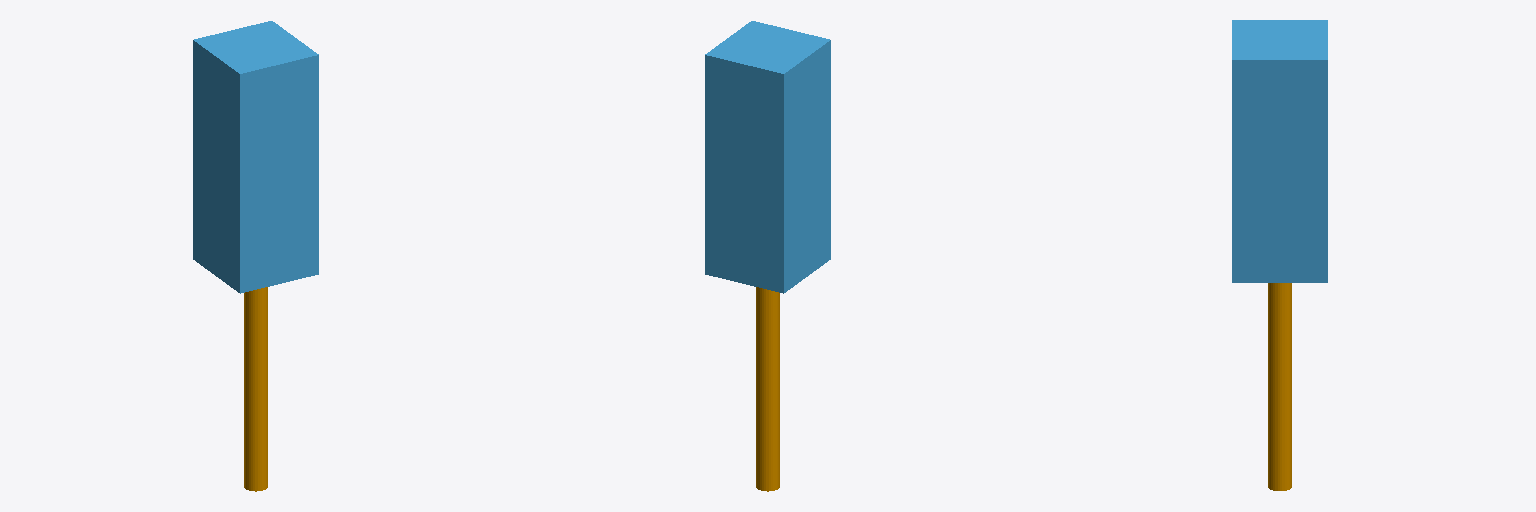
robot.urdf — screwdriver_on_the_table:
<?xml version="1.0" ?>
<!-- this is the one without any virtual joints and links -->
<robot name="screwdriver_on_the_table">
<link name="screwdriver_stick">
    <inertial>
      <mass value="0.05"/>
      <!-- <friction value="1.0"/> -->
      <inertia ixx="0.000041979" ixy="0.0" ixz="0.0" iyy="0.000041979" iyz="0.0" izz="0.000000625"/>
    </inertial>
    <visual>
        <origin rpy="0 0 0" xyz="0 0 0.05"/>
        <geometry>
            <cylinder radius="0.005" length="0.1"/>
        </geometry>
        <!-- <material name="White">
	 	    <color rgba="0.9 0.9 0.9 0.5"/>
        </material> -->
    </visual>
    <collision>
        <origin rpy="0 0 0" xyz="0 0 0.05"/>
        <geometry>
            <cylinder radius="0.005" length="0.1"/>
        </geometry>
    </collision>
</link>

<gazebo reference="screwdriver_body">
    <mu1>0.803395</mu1>
    <mu2>0.912079</mu2>
    <!-- Isaac Sim maps mu1/mu2 to PhysX static/dynamic friction during URDF→USD import -->
</gazebo>

<joint name="screwdriver_stick_body_joint" type="fixed">
    <parent link="screwdriver_stick"/>
    <child link="screwdriver_body"/>
    <origin rpy="0 0 0" xyz="0 0 0.1"/> 
    <axis xyz="0 0 1"/>
</joint>

<link name="screwdriver_body">
    <inertial>
      <mass value="0.128091"/>
      <inertia ixx="0.000122818" ixy="0.0" ixz="0.0" iyy="0.000121922" iyz="0.0" izz="0.000031255"/>
    </inertial>
    <visual>
        <origin rpy="0 0 0" xyz="0 0 0.05"/>
        <geometry>
            <box size="0.037710 0.038807 0.100000"/>
        </geometry>
        <!-- <material name="Red1">
	 	    <color rgba="0.9 0. 0. 0.5"/>
        </material> -->
    </visual>
    <collision>
        <origin rpy="0 0 0" xyz="0 0 0.05"/>
        <geometry>
            <box size="0.037710 0.038807 0.100000"/>
        </geometry>
    </collision>
</link>

<!-- <joint name="screwdriver_body_cap_joint" type="revolute">
    <parent link="screwdriver_body"/>
    <child link="screwdriver_cap"/>
    <origin rpy="0 0 0" xyz="0 0 0.1"/> 
    <axis xyz="0 0 1"/>
</joint>

<link name="screwdriver_cap">
    <inertial>
      <mass value="0.005"/>
      <inertia ixx="0.00001" ixy="0.0" ixz="0.0" iyy="0.000005" iyz="0.0" izz="0.000005"/>
    </inertial>
    <visual>
        <origin rpy="0 0 0" xyz="0 0 0.0006"/>
        <geometry>
            <cylinder radius="0.02" length="0.001"/>
        </geometry>
        <material name="Yellow">
	 	    <color rgba="0.9 0.9 0. 1.0"/>
        </material>
    </visual>
    <collision>
        <origin rpy="0 0 0" xyz="0 0 0.0005"/>
        <geometry>
            <cylinder radius="0.02" length="0.001"/>
        </geometry>
    </collision>
</link> -->

</robot>

--- Render facts (derived) ---
Views: 3 orthographic renders of the robot side by side, from view 1: azimuth 30°, elevation 25°; view 2: azimuth 150°, elevation 25°; view 3: azimuth 270°, elevation 25°.
Robot: screwdriver_on_the_table — 2 links, 1 joints (1 fixed); root link screwdriver_stick; default pose: every joint at zero.
Visible links, largest first — view 1: screwdriver_body, screwdriver_stick; view 2: screwdriver_body, screwdriver_stick; view 3: screwdriver_body, screwdriver_stick.
Boxes of the visible links, x1=… form: screwdriver_body: x1=193, y1=21, x2=318, y2=293; screwdriver_stick: x1=244, y1=287, x2=267, y2=491; screwdriver_body: x1=705, y1=21, x2=830, y2=293; screwdriver_stick: x1=756, y1=287, x2=779, y2=491; screwdriver_body: x1=1232, y1=20, x2=1327, y2=282; screwdriver_stick: x1=1268, y1=283, x2=1291, y2=490.
Bounding box of the posed robot: 0.0377 × 0.0388 × 0.2 m (x, y, z).
Geometry: primitives only (box / cylinder / sphere), no mesh files.
